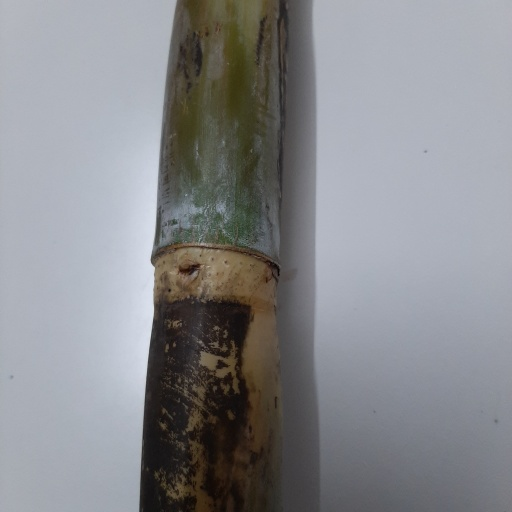Damage_Bud: (177, 259, 201, 290)
